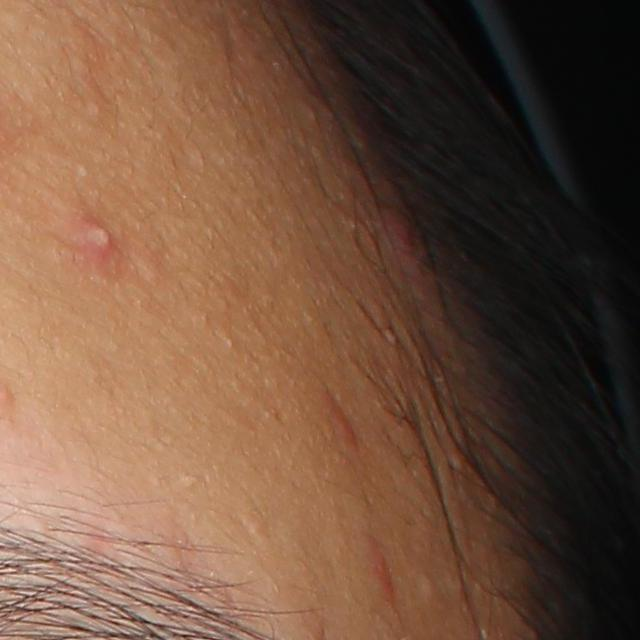papule: (372, 549, 395, 599)
